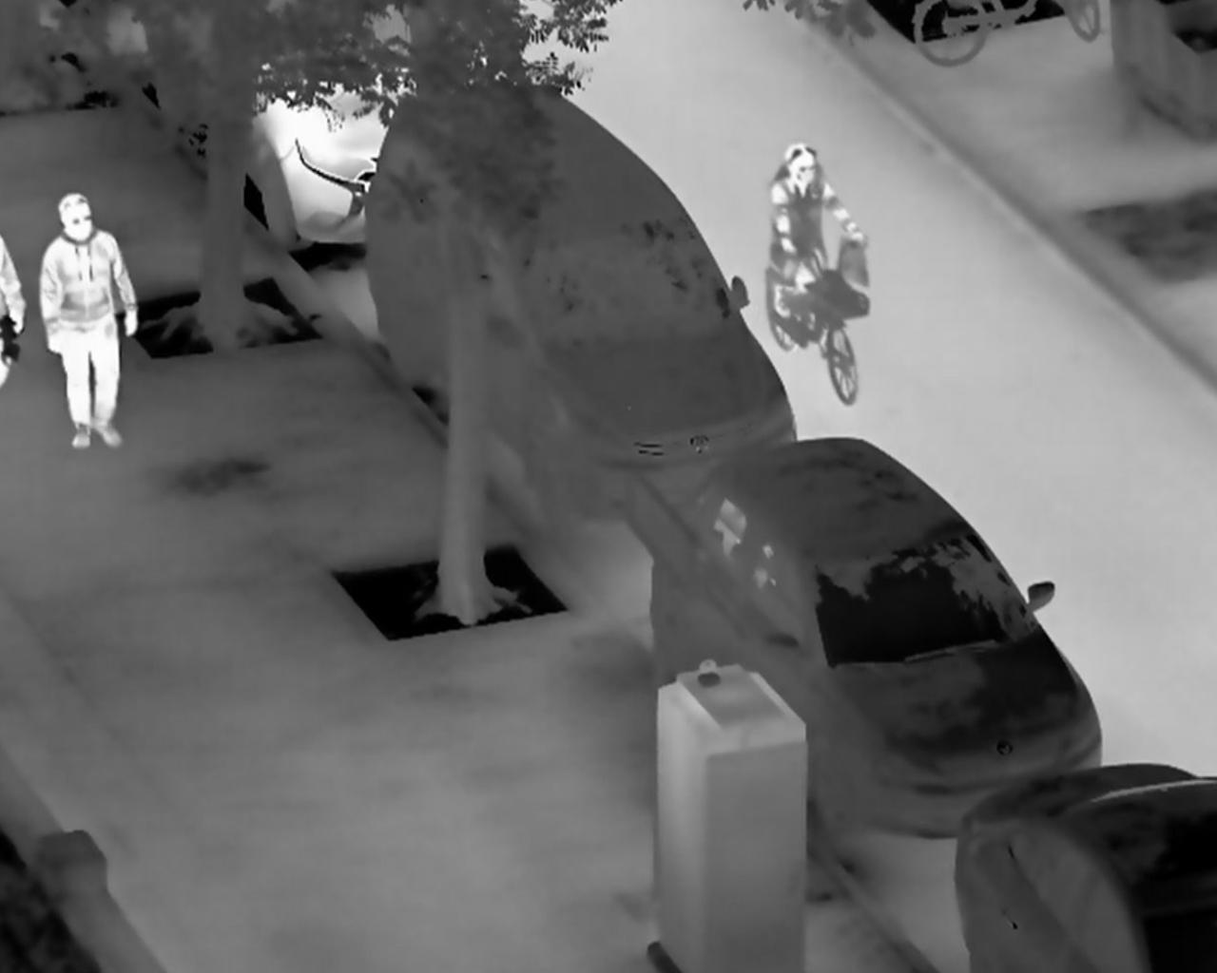person: (37, 192, 140, 451), (764, 141, 869, 328)
